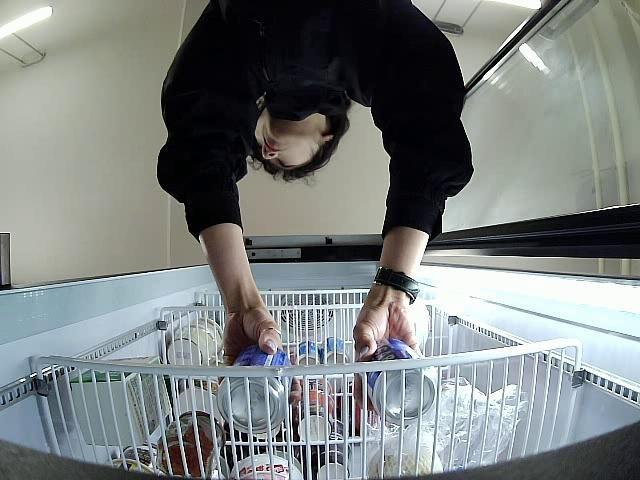13_pocariSweat: (220, 347, 292, 434), (361, 340, 434, 419)
